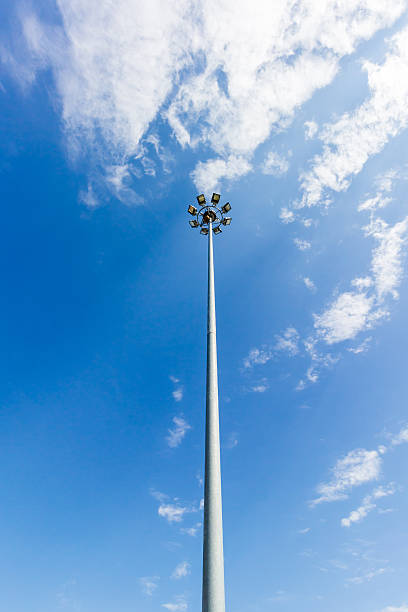light_pole: (202, 240, 226, 612)
